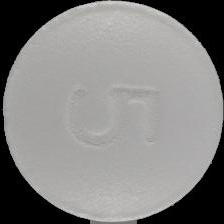0228-2801: (0, 0, 224, 224)
